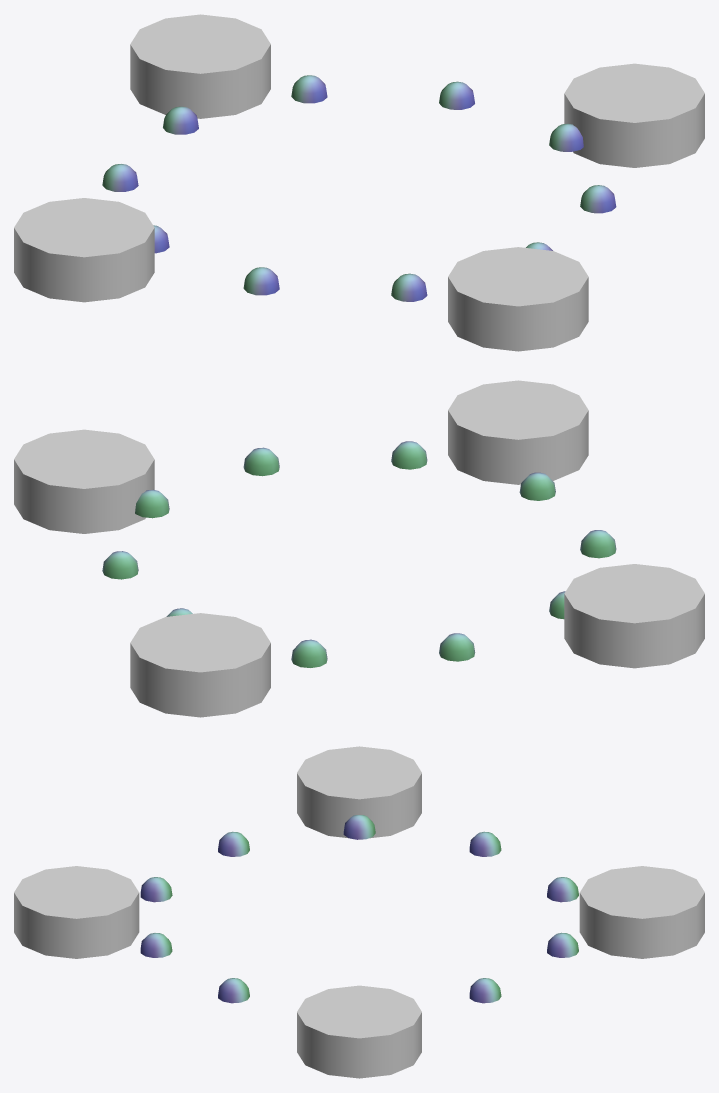
The model's file is Ordered portal destroyed.FBX.
The picture shows the model from 3 angles, top to bottom: view 1: azimuth 30°, elevation 25°; view 2: azimuth 150°, elevation 25°; view 3: azimuth 270°, elevation 25°; orthographic projection. The views are drawn at different scales.
Visible parts, largest first — view 1: Cylinder005, Cylinder004, Cylinder003, Cylinder002, Object001; view 2: Cylinder003, Cylinder004, Cylinder005, Cylinder002, Object001; view 3: Cylinder003, Cylinder005, Cylinder002, Cylinder004, Object001.
Part boxes in pixels (left/top/right/bottom): Cylinder005: left=448, top=247, right=588, bottom=351; Cylinder004: left=14, top=198, right=154, bottom=302; Cylinder003: left=130, top=14, right=270, bottom=118; Cylinder002: left=564, top=63, right=704, bottom=167; Object001: left=102, top=75, right=616, bottom=301; Cylinder003: left=130, top=613, right=270, bottom=717; Cylinder004: left=564, top=564, right=704, bottom=668; Cylinder005: left=448, top=380, right=588, bottom=484; Cylinder002: left=14, top=429, right=154, bottom=533; Object001: left=102, top=441, right=616, bottom=667; Cylinder003: left=579, top=866, right=704, bottom=958; Cylinder005: left=14, top=866, right=139, bottom=958; Cylinder002: left=297, top=985, right=421, bottom=1078; Cylinder004: left=297, top=746, right=421, bottom=838; Object001: left=140, top=815, right=578, bottom=1003.
Size of what is drawn, in the model's own units: 396 by 25.4 by 396.
